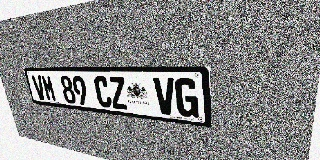8: (59, 75, 77, 104)
9: (71, 76, 89, 105)
C: (93, 76, 113, 108)
G: (174, 78, 199, 118)
M: (41, 75, 57, 102)
V: (153, 77, 176, 115), (31, 75, 47, 101)
Z: (108, 76, 128, 110)
